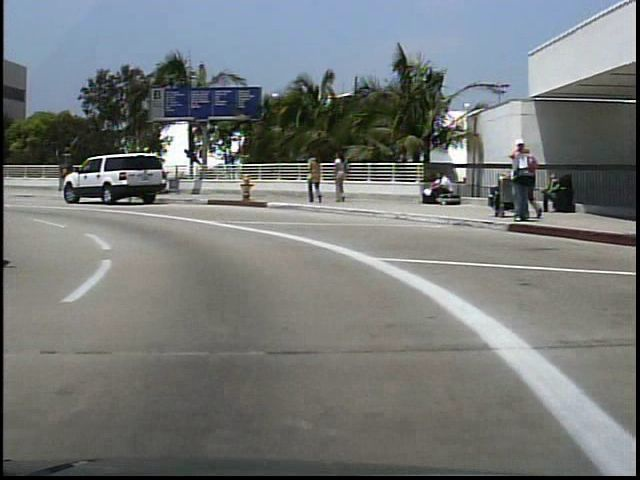person: (503, 134, 529, 223), (330, 151, 352, 207), (304, 146, 323, 206), (424, 171, 450, 207), (527, 143, 530, 223)
